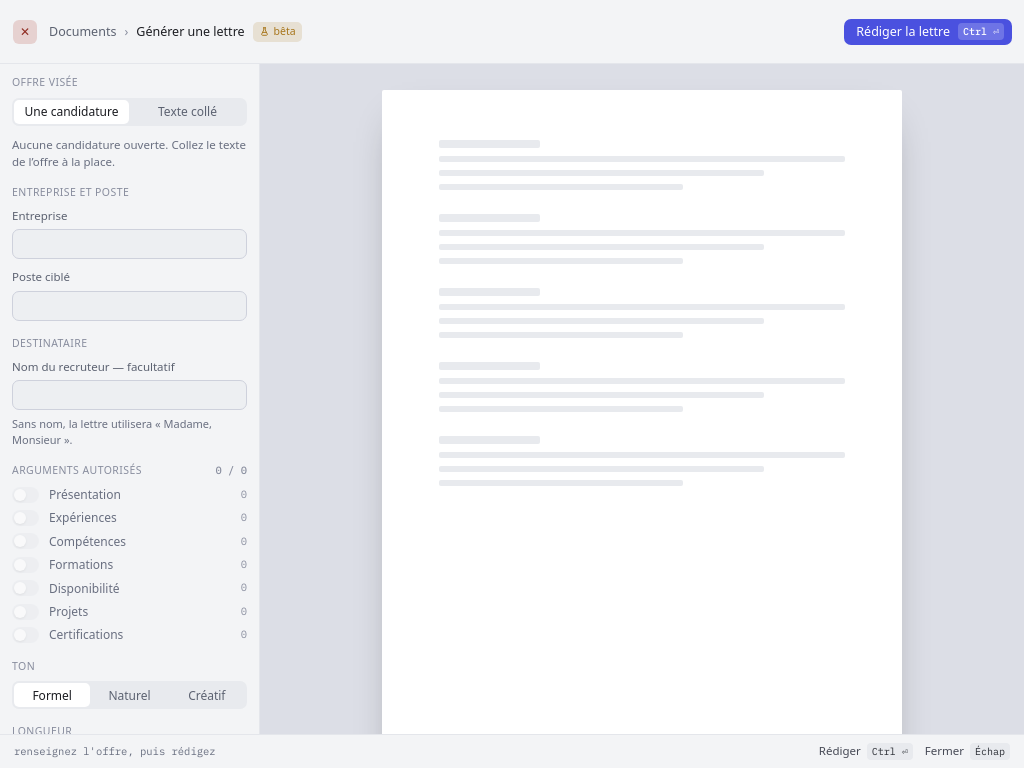
Test: itérations sur la lettre › ouvre les corrections et annonce la durée de rédaction
This screenshot has width=1024, height=768.
Click the tab "Texte collé" at {"x": 188, "y": 112}, box [130,100,245,124]
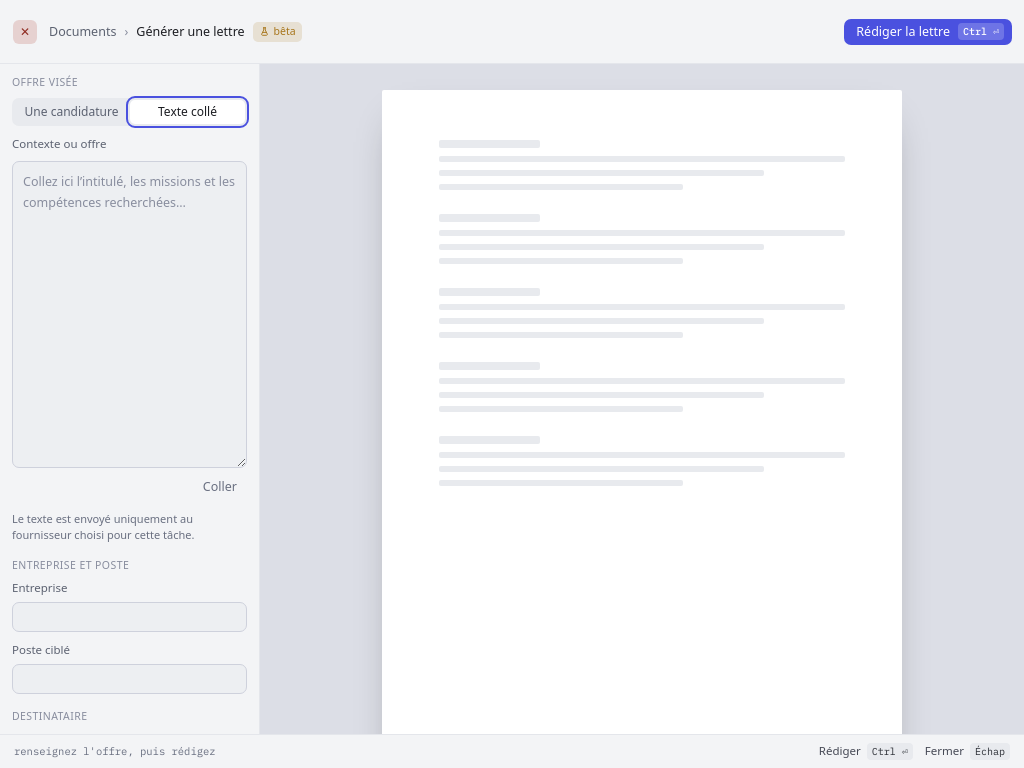
Type "Une offre" into the text box labelled "Contexte ou offre" at {"x": 130, "y": 314}, box [12,161,247,468]
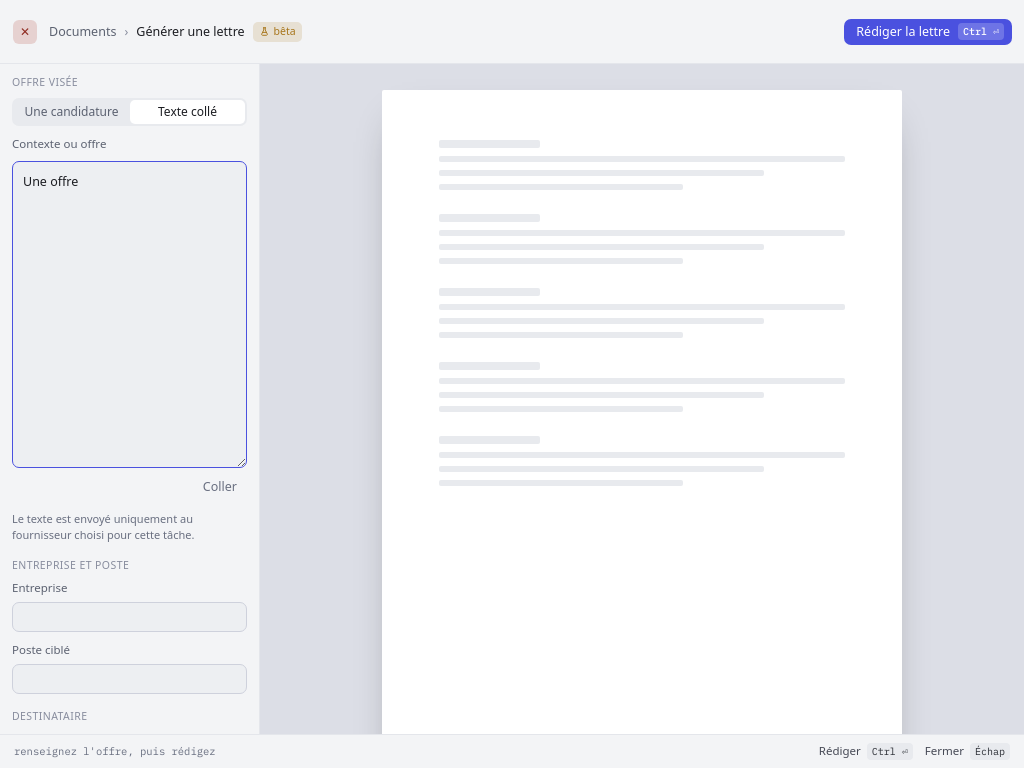
Click the button "Rédiger la lettre Ctrl ⏎" at {"x": 928, "y": 32}, box [844,18,1012,44]
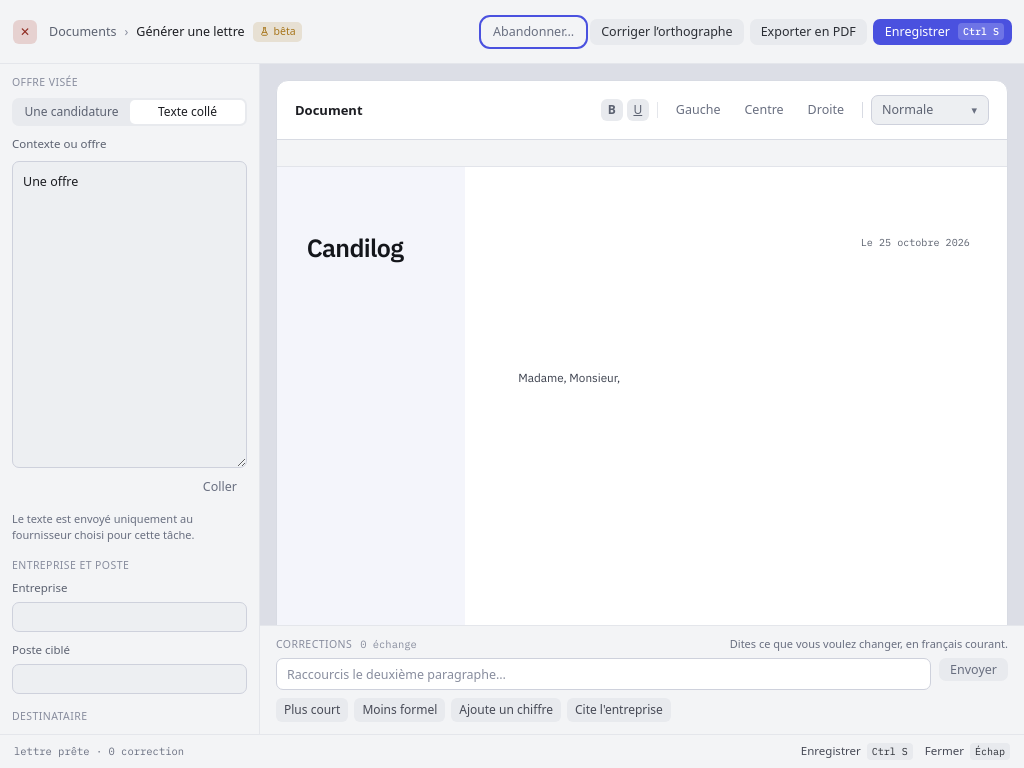
Result: the field named "Que faut-il changer ?" is shown at [276,658,931,690]
